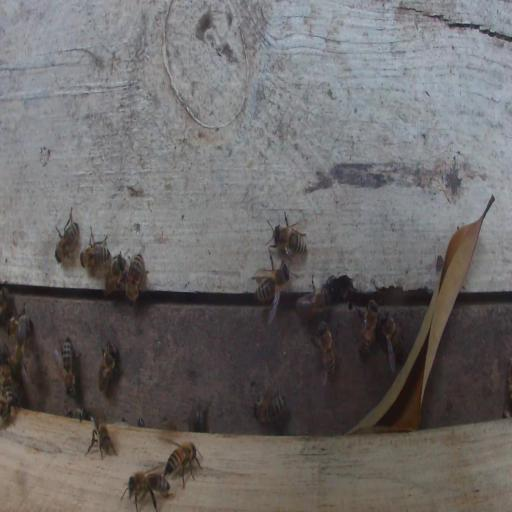nonpollenbee: (267, 213, 307, 259), (164, 443, 201, 489), (251, 260, 289, 302), (128, 470, 170, 508), (85, 413, 118, 460), (314, 320, 337, 384), (296, 278, 330, 320), (54, 207, 79, 264), (79, 231, 110, 273), (358, 300, 379, 357), (124, 250, 145, 305), (98, 341, 118, 393), (253, 393, 286, 424), (383, 317, 405, 363), (105, 254, 127, 295), (15, 317, 30, 366), (1, 379, 16, 426), (63, 341, 75, 395), (0, 292, 15, 330), (192, 403, 206, 431), (2, 350, 13, 377), (65, 407, 85, 421)
